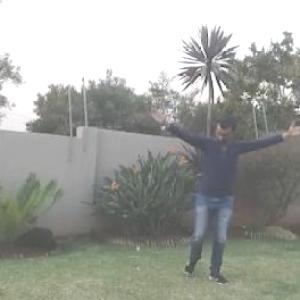takeoff: (154, 98, 296, 299)
